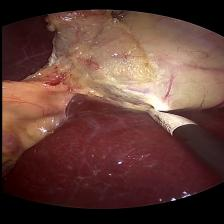Hook: (144, 106, 198, 136)
